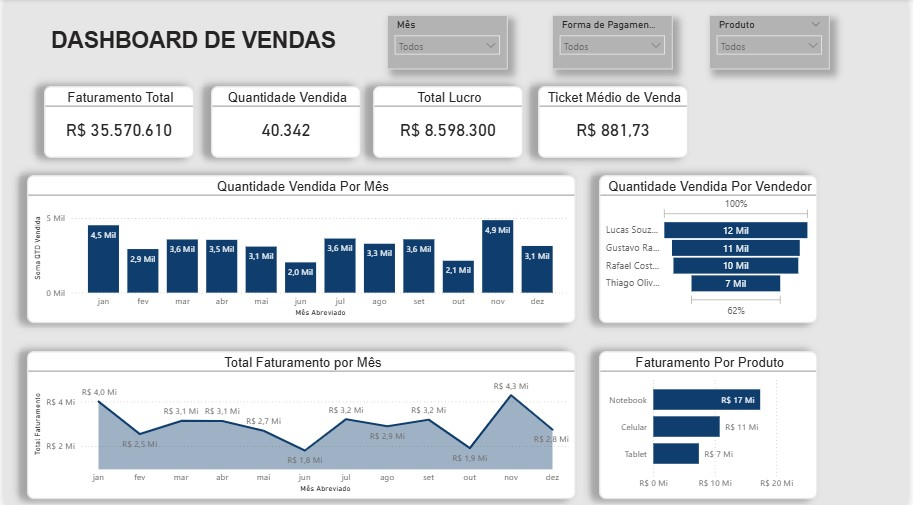

What the dashboard file says about the page in this screenshot:
{"tool":"powerbi","page":{"name":"Página 2","canvas":[1280,720],"ordinal":2},"visuals":[{"type":"funnel","title":"Quantidade Vendida Por Vendedor","fields":{"Category":["Base.Vendedor"],"Y":["Base.Soma QTD Vendida"]},"box":[843.3,249.4,310.4,209.8],"z":0},{"type":"textbox","box":[56.7,29.8,449.3,60.9],"z":1000},{"type":"card","title":"Faturamento Total","fields":{"Values":["Base.Faturamento"]},"box":[56.7,123.3,212.6,102],"z":2000},{"type":"card","title":"Quantidade Vendida","fields":{"Values":["Base.Soma QTD Vendida"]},"box":[293.4,123.3,212.6,102],"z":3000},{"type":"clusteredColumnChart","title":"Quantidade Vendida Por Mês","fields":{"Y":["Base.Soma QTD Vendida"],"Category":["Calendário.Mês Abreviado"]},"box":[32.6,249.4,778.1,209.8],"z":4000},{"type":"card","title":"Total Lucro","fields":{"Values":["Base.Total Lucro"]},"box":[523,123.3,212.6,102],"z":5000},{"type":"card","title":"Ticket Médio de Venda","fields":{"Values":["Base.Faturamento Médio"]},"box":[756.9,123.3,212.6,102],"z":6000},{"type":"areaChart","title":"Total Faturamento por Mês","fields":{"Y":["Base.Total Faturamento"],"Category":["Calendário.Mês Abreviado"]},"box":[32.6,498.9,778.1,209.8],"z":7000},{"type":"clusteredBarChart","title":"Faturamento Por Produto","fields":{"Y":["Base.Total Faturamento"],"Category":["Base.Produto"]},"box":[843.3,498.9,310.4,209.8],"z":8000},{"type":"slicer","fields":{"Values":["Calendário.Mês Abreviado"]},"box":[542.8,22.7,171.5,76.5],"z":9000},{"type":"slicer","fields":{"Values":["Base.Forma de Pagamento"]},"box":[776.7,22.7,171.5,76.5],"z":9001},{"type":"slicer","fields":{"Values":["Base.Produto"]},"box":[999.2,22.7,171.5,76.5],"z":9002}]}

Visuals, with their boxes in screenshot pixels (x1, y1, x2, y2), scaled from the page's 1280x720 canvas onto the 913x505 screenshot:
"Quantidade Vendida Por Vendedor" funnel: locate(602, 175, 823, 322)
textbox: locate(40, 21, 361, 64)
"Faturamento Total" card: locate(40, 86, 192, 158)
"Quantidade Vendida" card: locate(209, 86, 361, 158)
"Quantidade Vendida Por Mês" clusteredColumnChart: locate(23, 175, 578, 322)
"Total Lucro" card: locate(373, 86, 525, 158)
"Ticket Médio de Venda" card: locate(540, 86, 692, 158)
"Total Faturamento por Mês" areaChart: locate(23, 350, 578, 497)
"Faturamento Por Produto" clusteredBarChart: locate(602, 350, 823, 497)
slicer - Calendário.Mês Abreviado: locate(387, 16, 509, 70)
slicer - Base.Forma de Pagamento: locate(554, 16, 676, 70)
slicer - Base.Produto: locate(713, 16, 835, 70)
